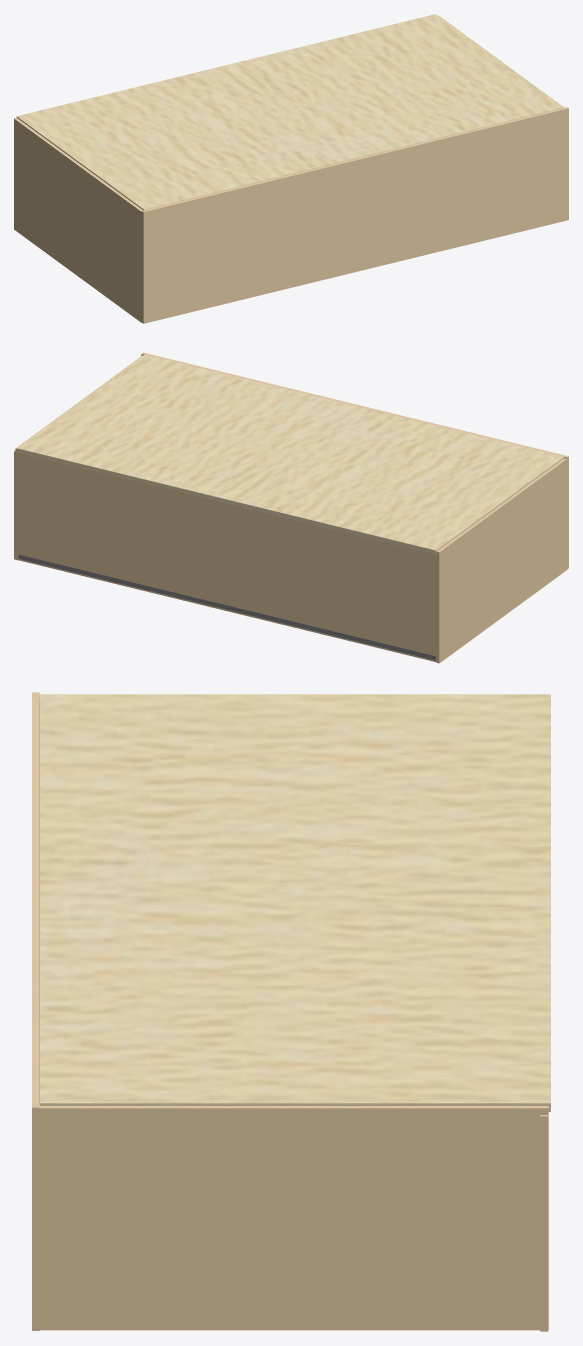
Rendered from copia_coraline.gltf.
3 renders of one model, top to bottom at view 1: azimuth 30°, elevation 25°; view 2: azimuth 150°, elevation 25°; view 3: azimuth 270°, elevation 25°, orthographic. The views are drawn at different scales.
Visible parts, largest first — view 1: Cube.002, Cube.006, Cube.001; view 2: Cube.002, Cube.004, Cube.001, Cube.003, Cube.006, Cube; view 3: Cube.002, Cube, Cube.006, Cube.004.
Boxes of the visible parts, left/top/right/bottom form: Cube.002: left=16, top=14, right=562, bottom=210; Cube.006: left=141, top=107, right=568, bottom=323; Cube.001: left=14, top=118, right=142, bottom=322; Cube.002: left=17, top=355, right=563, bottom=554; Cube.004: left=14, top=451, right=435, bottom=661; Cube.001: left=436, top=458, right=567, bottom=663; Cube.003: left=18, top=554, right=435, bottom=660; Cube.006: left=141, top=352, right=568, bottom=568; Cube: left=15, top=355, right=143, bottom=560; Cube.002: left=40, top=694, right=550, bottom=1111; Cube: left=39, top=1105, right=548, bottom=1330; Cube.006: left=32, top=692, right=39, bottom=1330; Cube.004: left=540, top=1115, right=548, bottom=1331.
Size of the model in its own units: 670 by 169 by 354.
6 materials, 6 textured.
